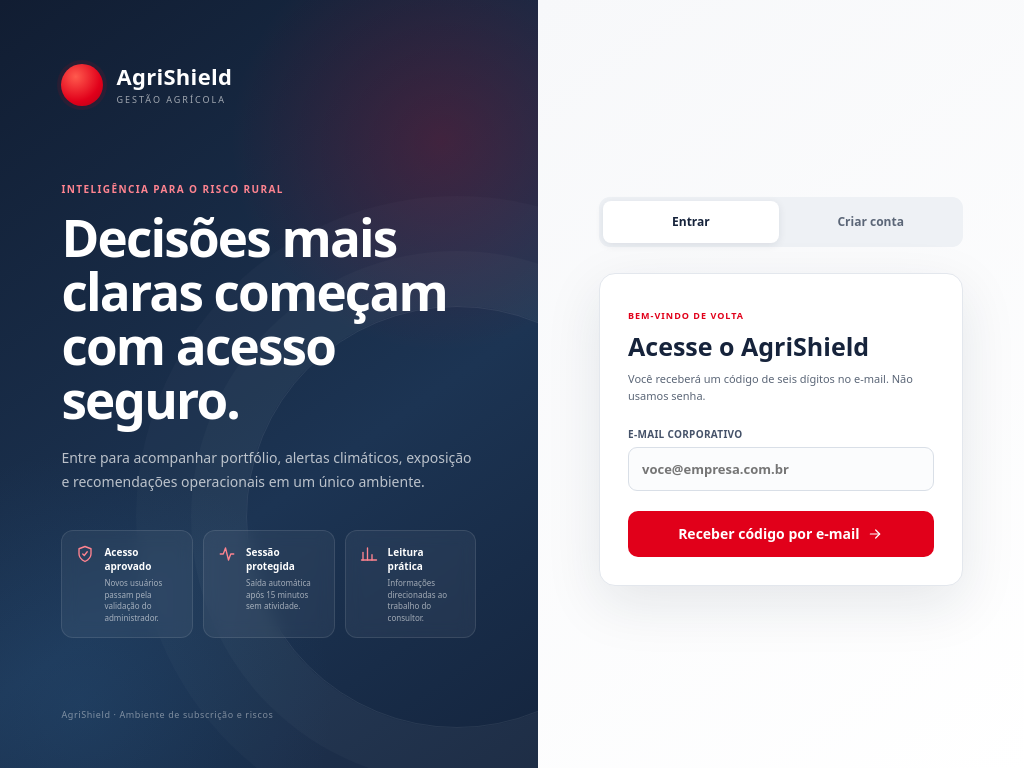
Test case: autenticação por e-mail › envia metadados no cadastro e orienta a confirmação pelo link
Click the tab "Criar conta" at (871, 222), box [783, 201, 959, 243]
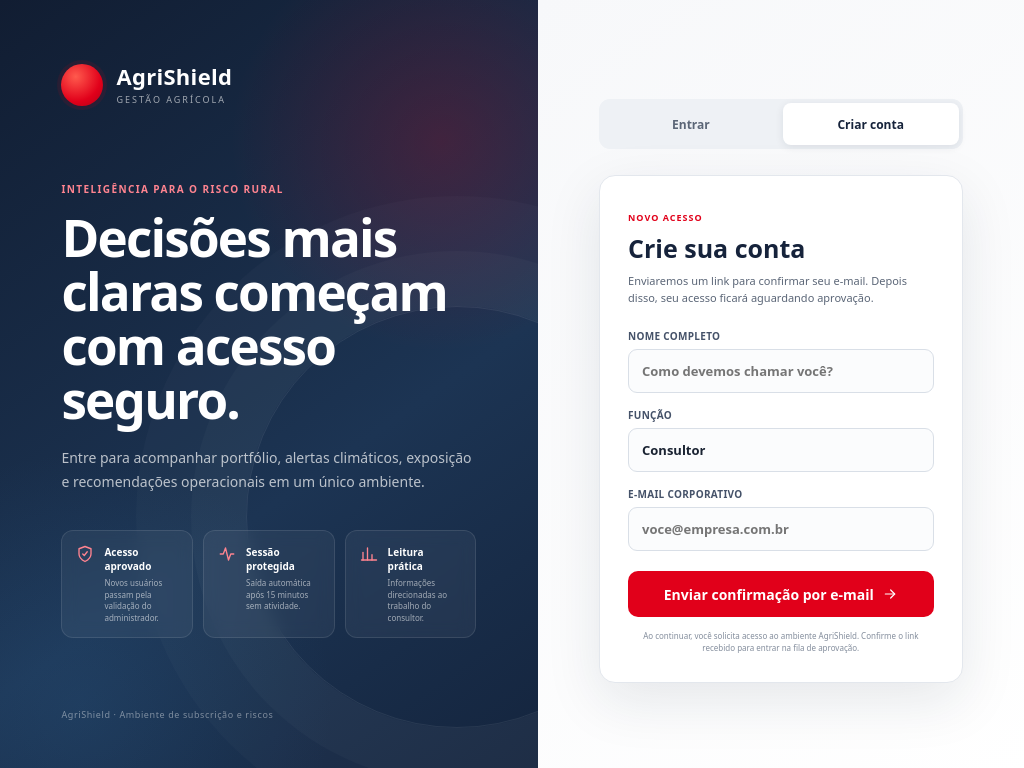
Type "Pessoa Teste" into the field labelled "Nome completo" at (781, 372), box [628, 350, 934, 394]
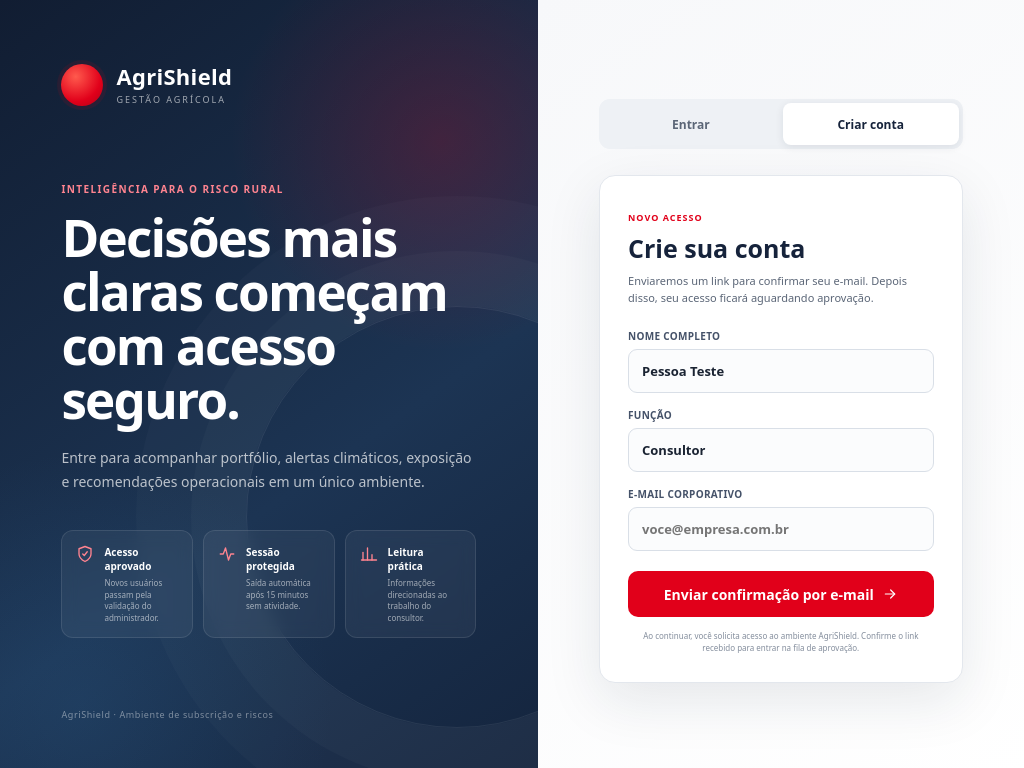
Replace the text in the field labelled "Função" with "Consultor de riscos" at (781, 450), box [628, 428, 934, 472]
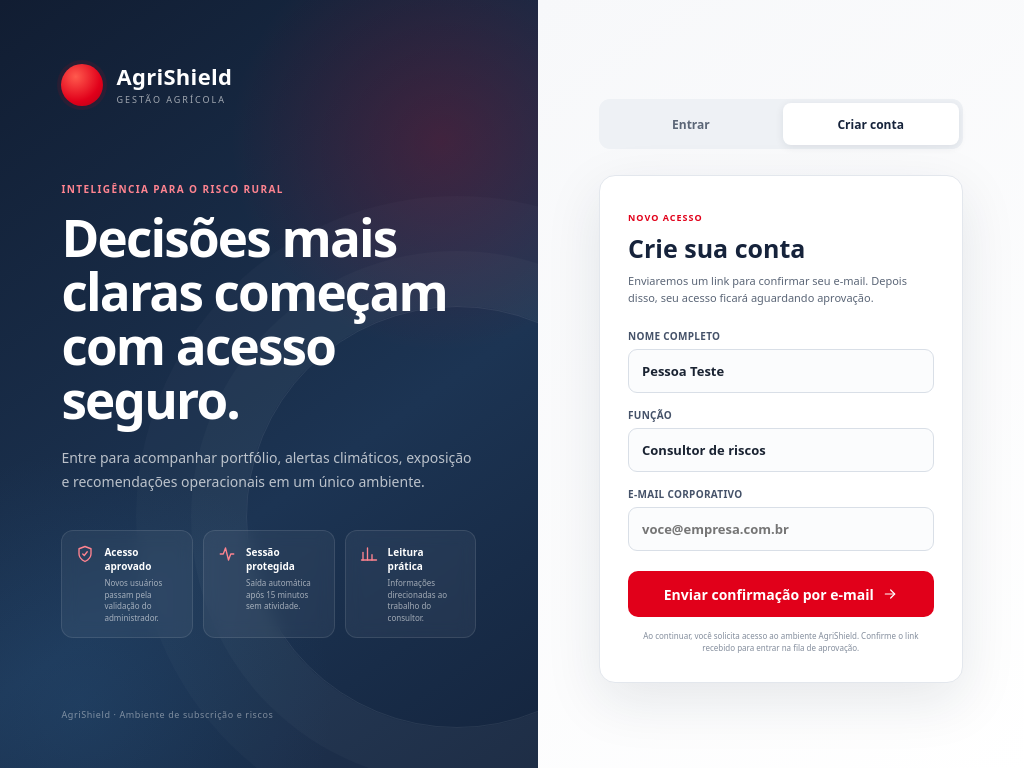
Type "Pessoa@Empresa.com" into the field labelled "E-mail corporativo" at (781, 530), box [628, 508, 934, 552]
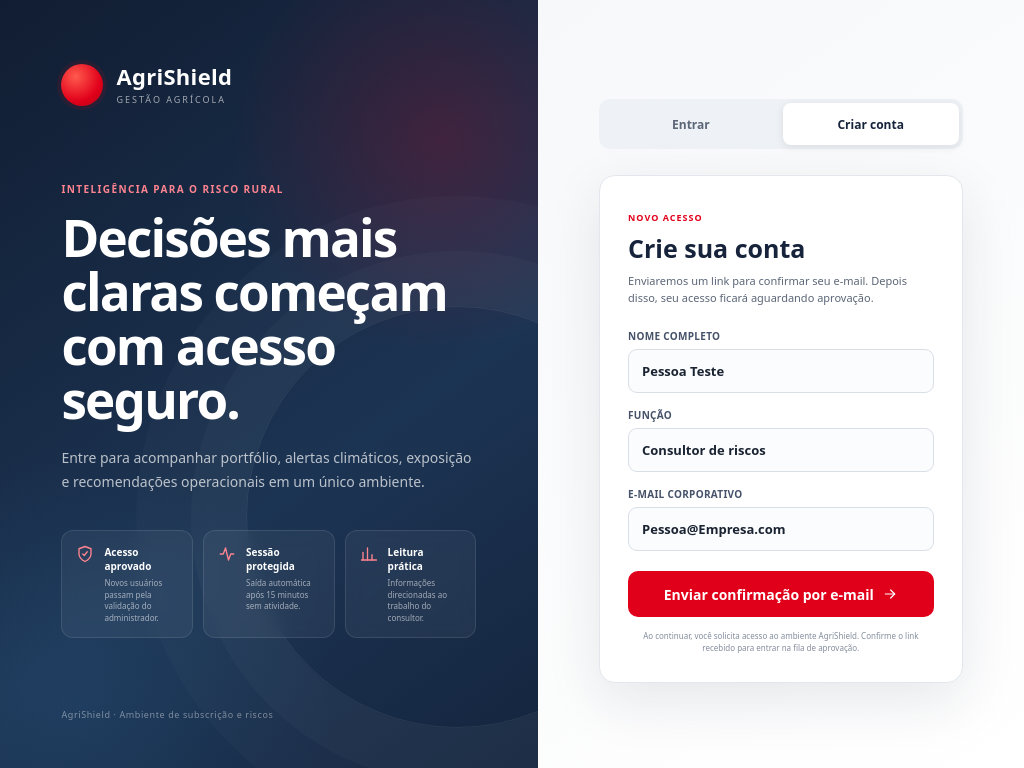
Click the button "Enviar confirmação por e-mail" at (781, 594), box [628, 572, 934, 618]
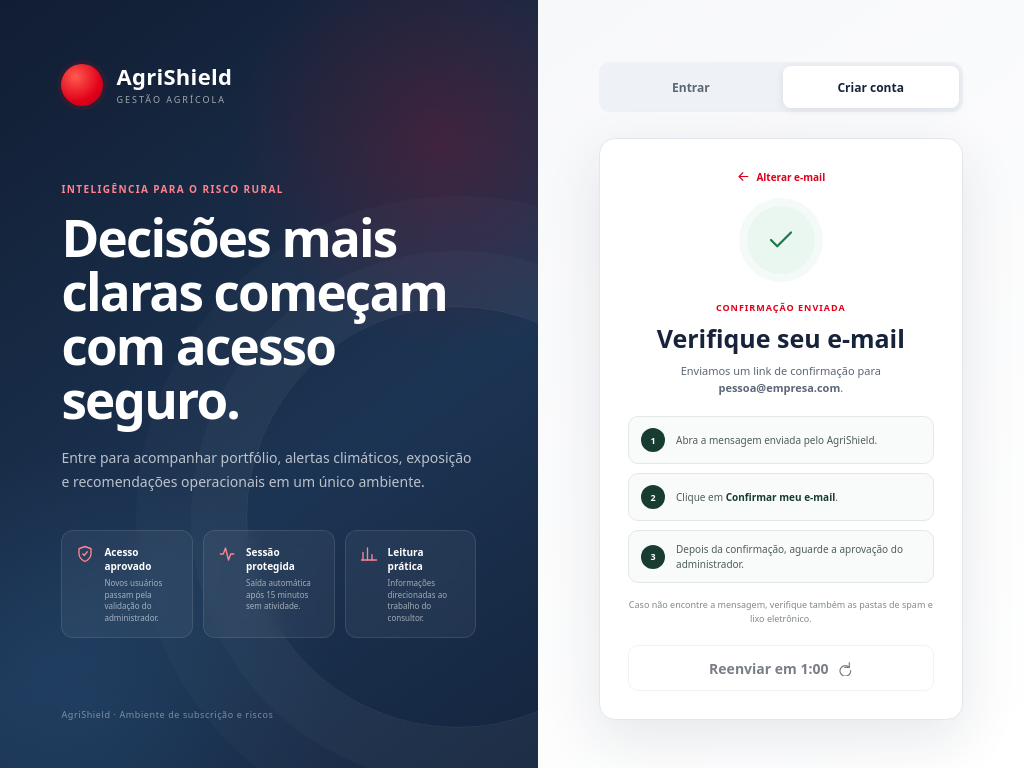
expect the heading "Verifique seu e-mail" is shown: met, box [657, 321, 905, 355]
expect the text "Enviamos um link de confirmação para pessoa@empresa.com." is shown: met, box [681, 363, 881, 395]
expect the text "Depois da confirmação, aguarde a aprovação do administrador." is shown: met, box [676, 542, 920, 572]
